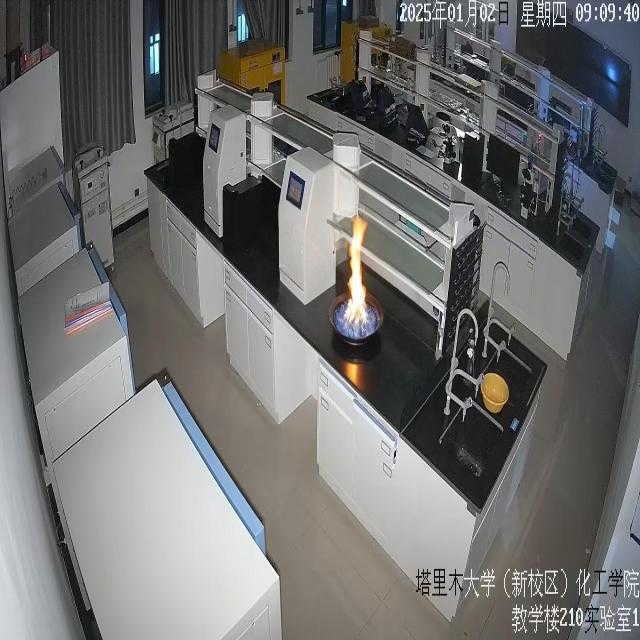smoke: (342, 211, 371, 325)
